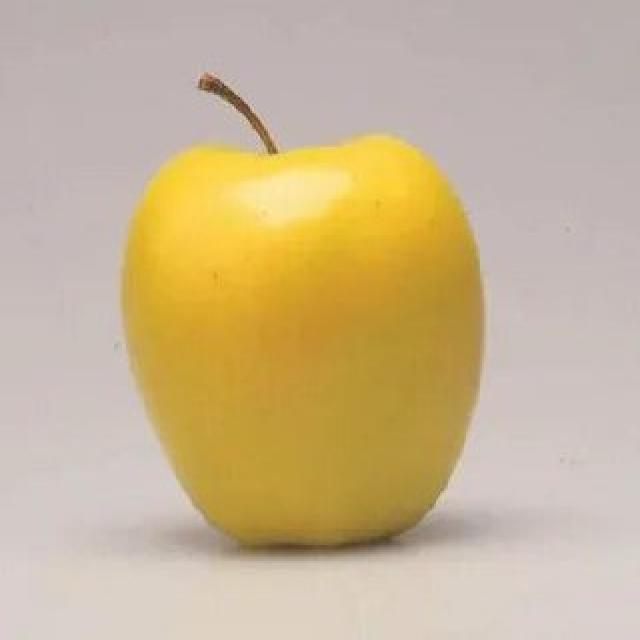Fresh Apple: (103, 127, 482, 555)
